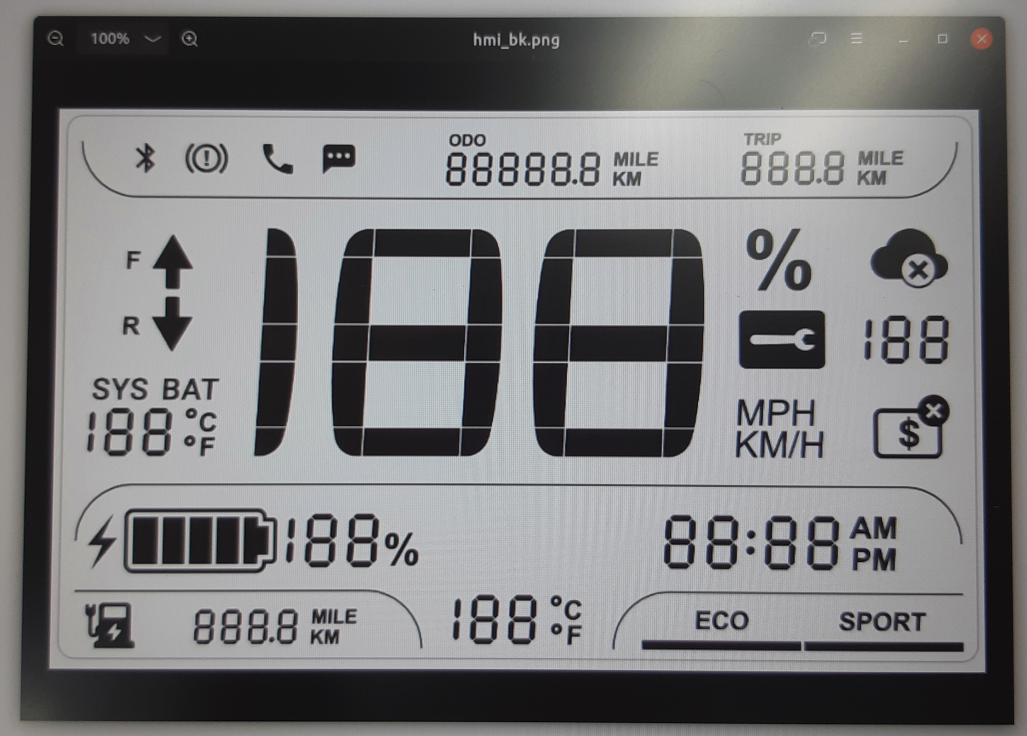bluetooth_on: (131, 138, 162, 177)
braking_on: (181, 137, 232, 176)
calling_on: (258, 138, 298, 178)
connection_lost: (865, 224, 953, 292)
error_code: (734, 307, 829, 372)
low_battery: (81, 599, 139, 651)
sms_on: (319, 140, 359, 178)
vin_id: (869, 392, 953, 463)
